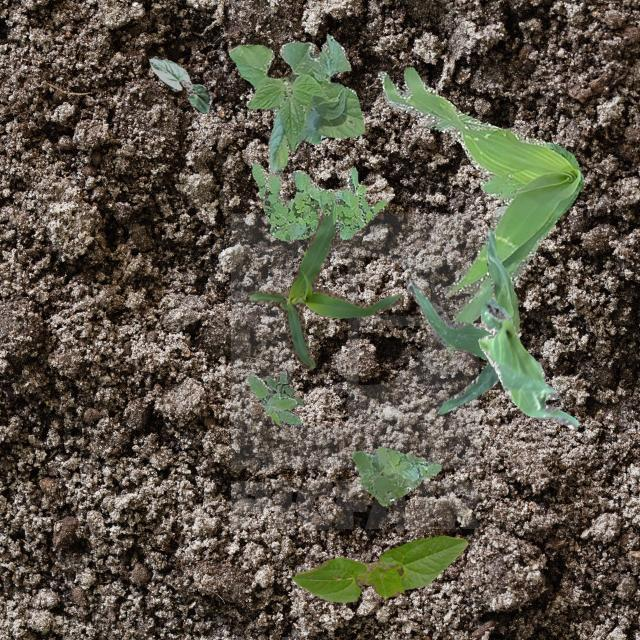crop: (246, 182, 404, 368), (406, 230, 520, 413), (228, 32, 364, 172), (477, 298, 578, 426), (290, 534, 467, 602), (147, 56, 210, 112)
weed: (378, 66, 582, 356), (250, 162, 384, 240), (350, 446, 440, 504), (247, 372, 300, 426), (264, 372, 304, 404)
